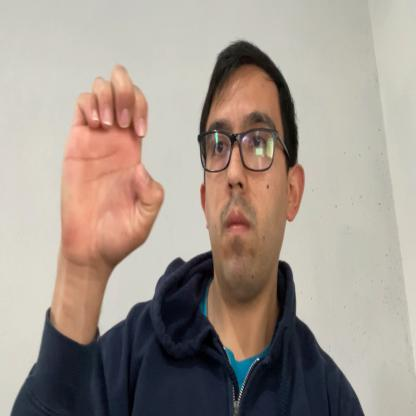E: (59, 64, 165, 266)
